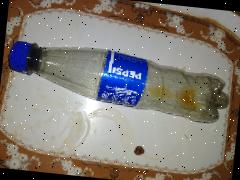plastic: (4, 38, 232, 125)
